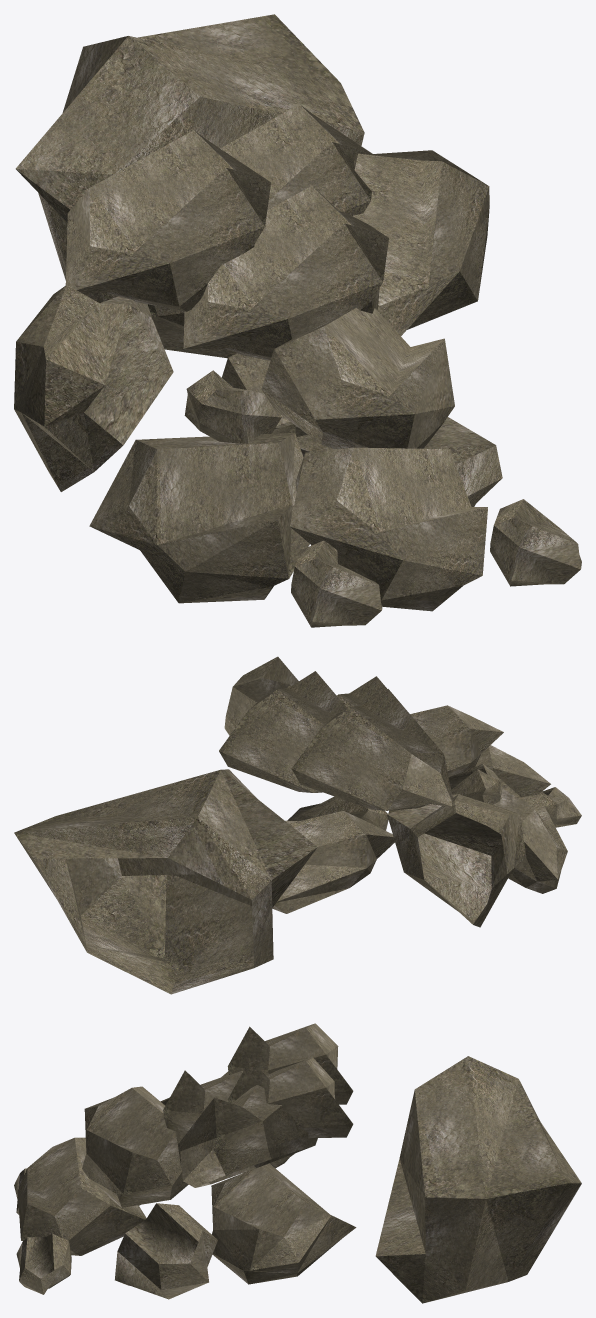
File: BigRubble01.FBX
3 renders of one model, top to bottom at view 1: azimuth 30°, elevation 25°; view 2: azimuth 150°, elevation 25°; view 3: azimuth 270°, elevation 25°, orthographic. The views are drawn at different scales.
Visible parts, largest first — view 1: BigRubble01; view 2: BigRubble01; view 3: BigRubble01.
Boxes of the visible parts, x1,y1,x2,y2 form: BigRubble01: (14, 14, 581, 627); BigRubble01: (14, 656, 581, 994); BigRubble01: (14, 1023, 581, 1303).
Size of the model in its own units: 54.46 by 37.16 by 84.87.
Materials: 1 (1 with a texture image).
